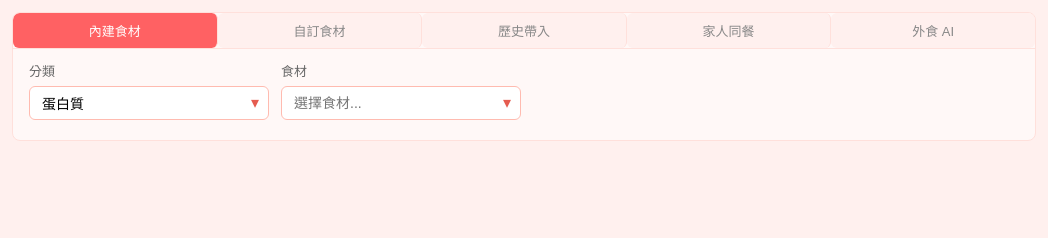
Scenario: searchable menu integrations › resets food selection on category changes and searches only that category
This screenshot has width=1048, height=238.
Type "雞蛋" into the dropdown labelled "食材" at (401, 103), box [281,86,521,120]
Then press Enter
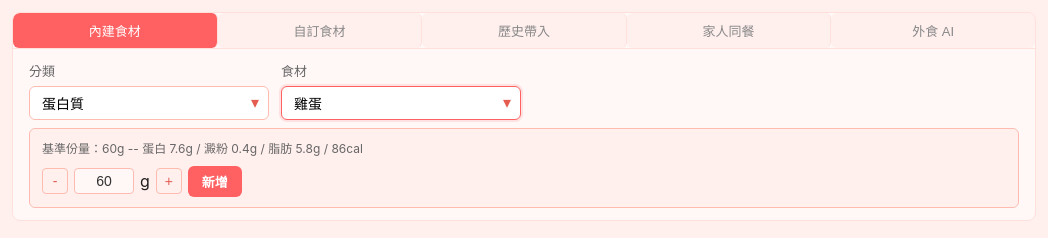
Replace the text in the dropdown labelled "分類" with "starch" at (149, 103), box [29,86,269,120]
Then press Enter
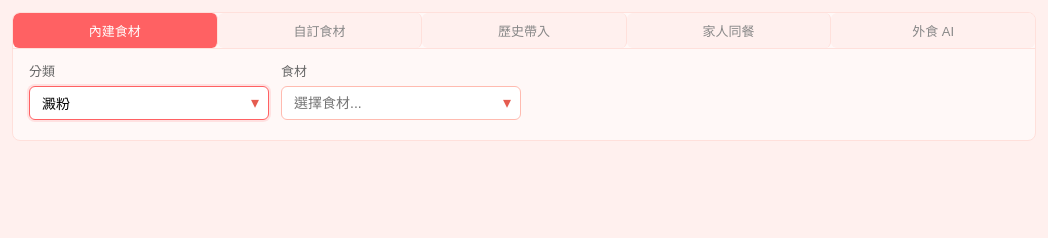
Check: the dropdown labelled "食材" is empty
Type "雞蛋" into the dropdown labelled "食材" at (401, 103), box [281,86,521,120]
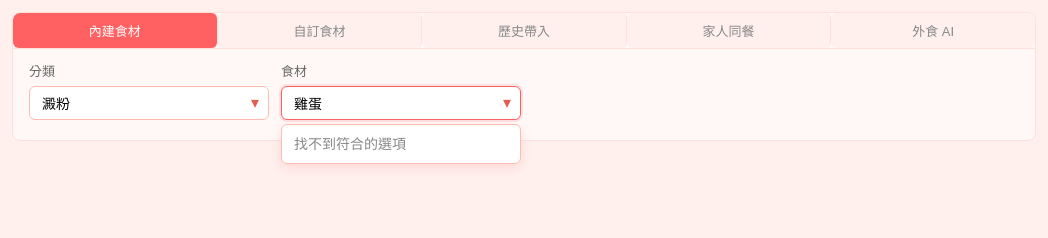
Replace the text in the dropdown labelled "食材" with "白飯" at (401, 103), box [281,86,521,120]
Then press Enter
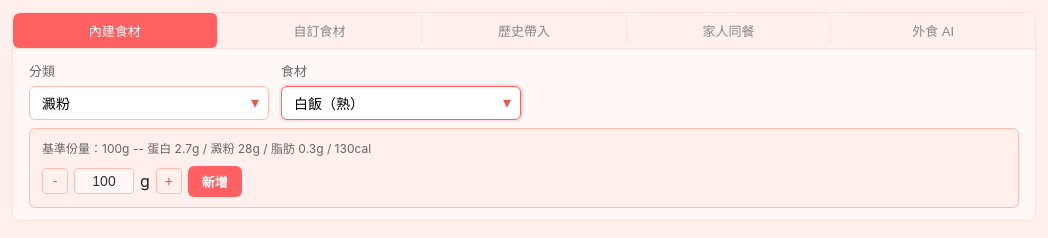
Check: the number field holds "100", box [74,168,134,194]
